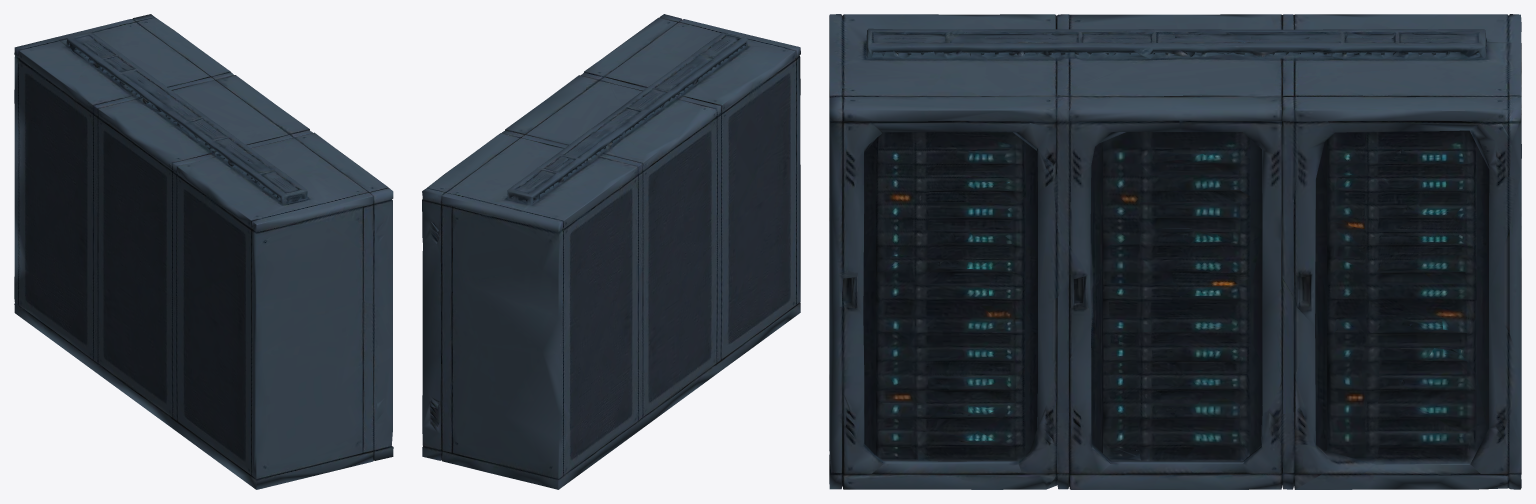
The model's file is rack.glb.
3 views of the same model, side by side, from view 1: azimuth 30°, elevation 25°; view 2: azimuth 150°, elevation 25°; view 3: azimuth 270°, elevation 25° (orthographic). The views are drawn at different scales.
Parts seen in each view (by area): view 1: tripo_node_cae7d1eb-cf47-4243-a944-136e72145a17; view 2: tripo_node_cae7d1eb-cf47-4243-a944-136e72145a17; view 3: tripo_node_cae7d1eb-cf47-4243-a944-136e72145a17.
Part boxes in pixels (x1,y1,x2,y2): tripo_node_cae7d1eb-cf47-4243-a944-136e72145a17: (14, 14, 393, 489); tripo_node_cae7d1eb-cf47-4243-a944-136e72145a17: (422, 14, 800, 489); tripo_node_cae7d1eb-cf47-4243-a944-136e72145a17: (829, 14, 1521, 489).
Size of the model in its own units: 0.3288 by 0.6138 by 0.9792.
1 material, 1 textured.
